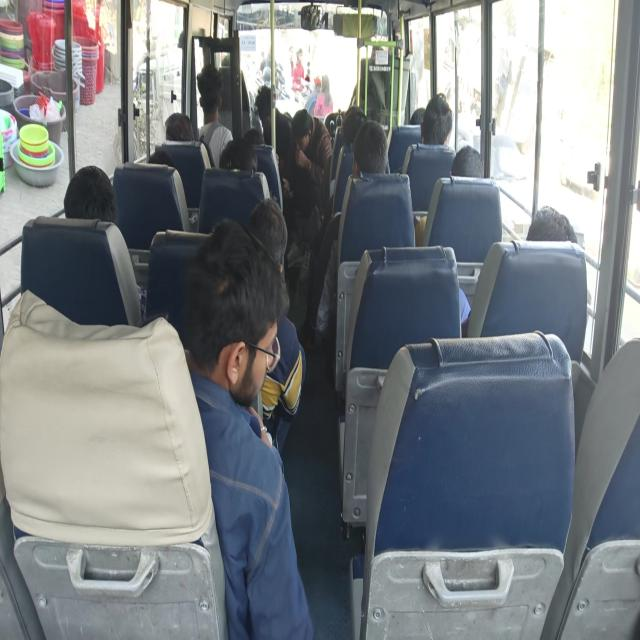person: (215, 239, 274, 402), (246, 197, 289, 266), (65, 164, 112, 224), (530, 200, 574, 252), (349, 128, 385, 179), (426, 99, 454, 154), (160, 109, 197, 147), (221, 135, 256, 172), (198, 72, 227, 116), (451, 150, 482, 179), (292, 111, 312, 152), (144, 142, 170, 170), (342, 110, 364, 142), (238, 124, 266, 148), (257, 83, 275, 120), (407, 104, 426, 126), (224, 52, 238, 72)
